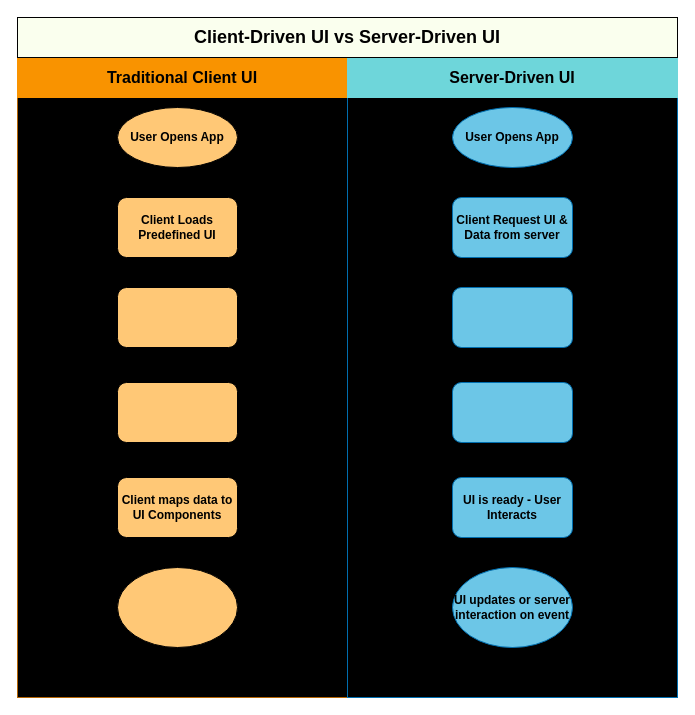
The diagram is 695 pixels wide and 715 high, and some of its shapes have lost their labels. The shapes that lost their labels are listed below. From the top down, each one's centre as x and y in pixels, then its label:
At point 177,317: "Client Requests Data From Server".
At point 512,317: "Server Responds with UI Schema & Data".
At point 177,412: "Server sends raw data".
At point 512,412: "Client Parses Schema & Renders UI".
At point 177,607: "User Interacts (Events handled locally)".
